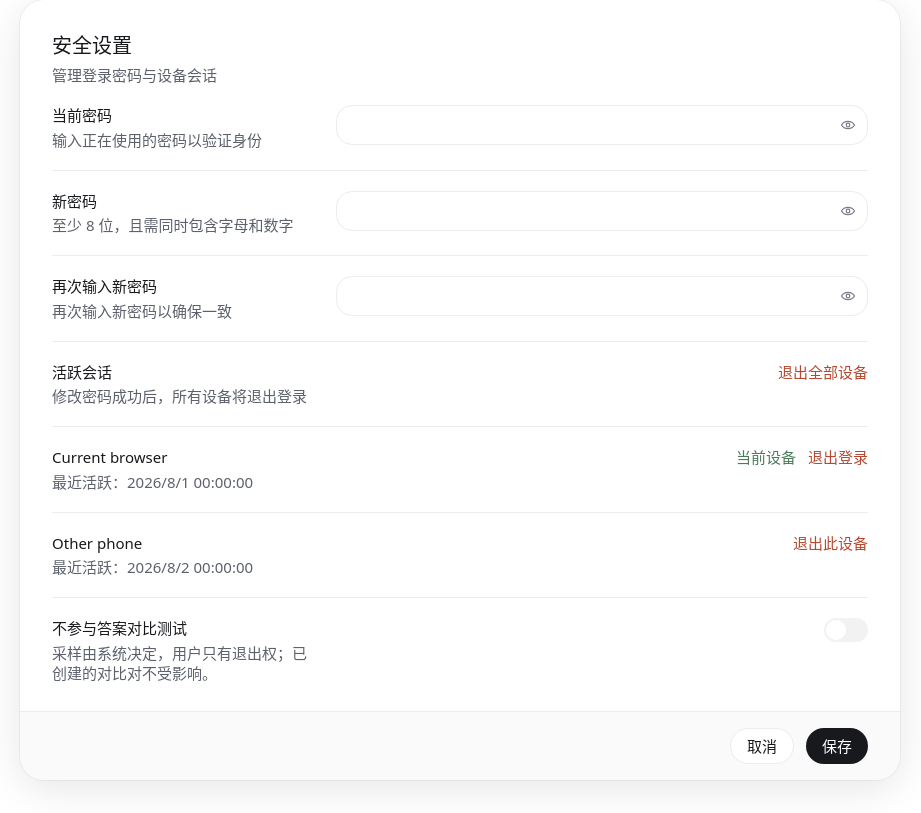
Test: SecurityModule › keeps the other device listed and shows an accessible error when revoke fails
This screenshot has width=921, height=813.
Expected: the text "Other phone" is shown, [52,533,142,553]
Click the button "退出此设备": (830,543) [793,533,868,553]
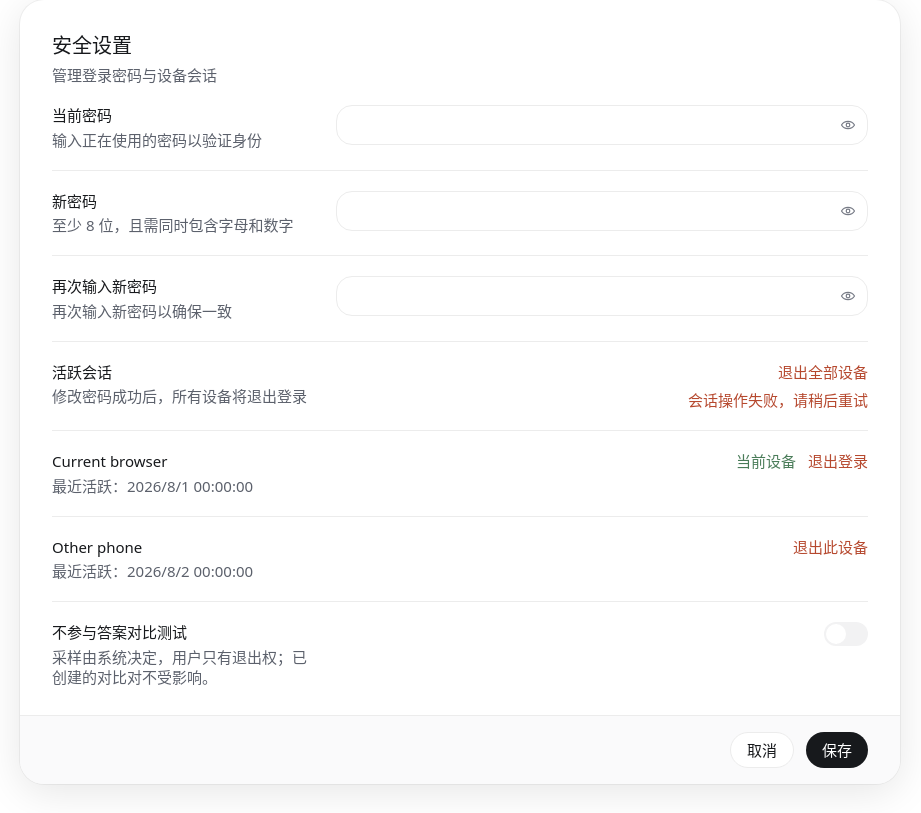
Expected: the text "Other phone" is shown, [52,537,142,557]
Expected: the message reads "会话操作失败，请稍后重试", [688,390,868,410]
